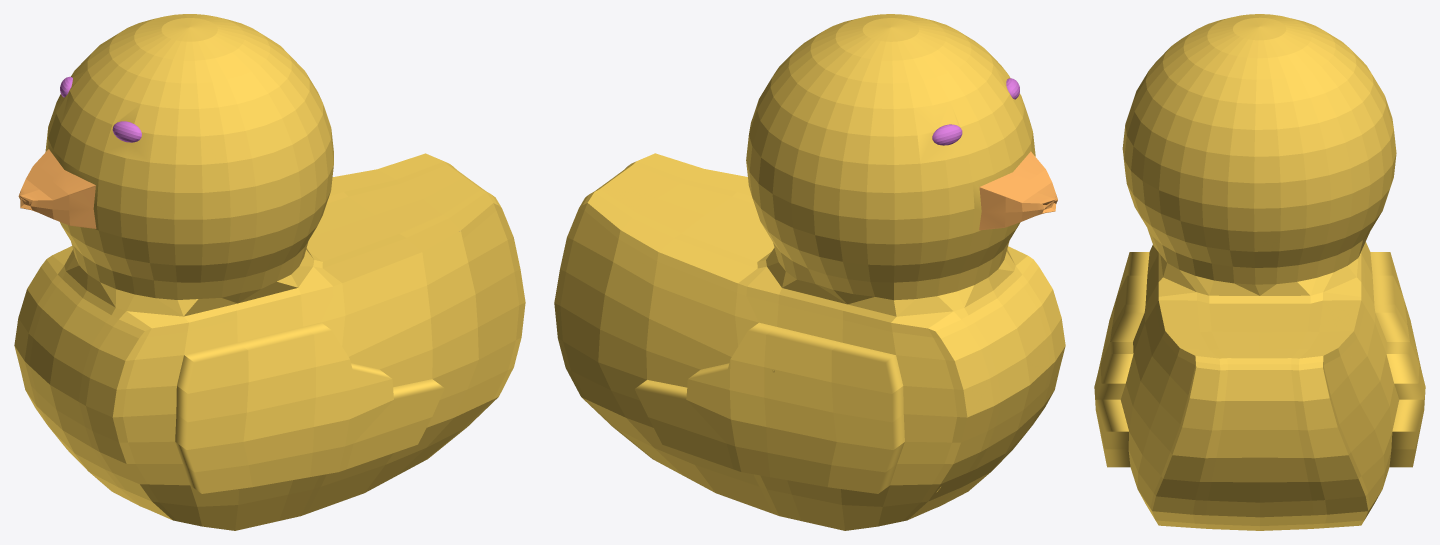
The model's file is duck.fbx.
3 renders of one model, left to right at view 1: azimuth 30°, elevation 25°; view 2: azimuth 150°, elevation 25°; view 3: azimuth 270°, elevation 25°, orthographic. The views are drawn at different scales.
Visible parts, largest first — view 1: polySurface7; view 2: polySurface7; view 3: polySurface7.
Part boxes in pixels (x1,y1,x2,y2): polySurface7: (14,14,525,530); polySurface7: (554,14,1065,530); polySurface7: (1094,14,1425,530).
Size of the model in its own units: 0.0478 by 0.0461 by 0.0313.
